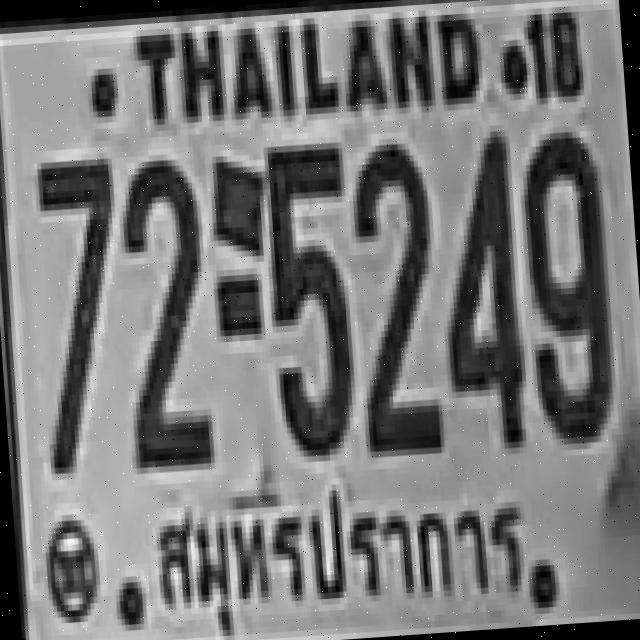2: (112, 152, 212, 462), (345, 140, 441, 454)
4: (430, 124, 526, 446)
5: (258, 136, 358, 452)
7: (28, 152, 128, 468), (32, 152, 122, 378)
9: (514, 124, 614, 440)
SamutPrakan: (134, 453, 535, 636)
